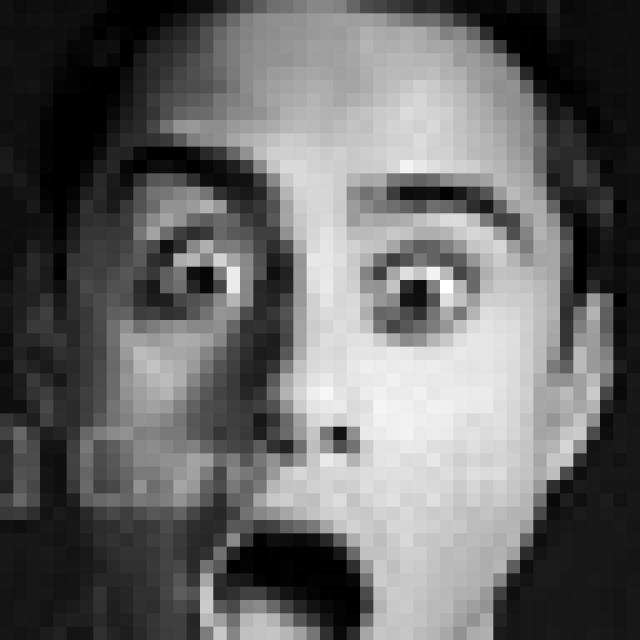surprise: (97, 134, 541, 640)
